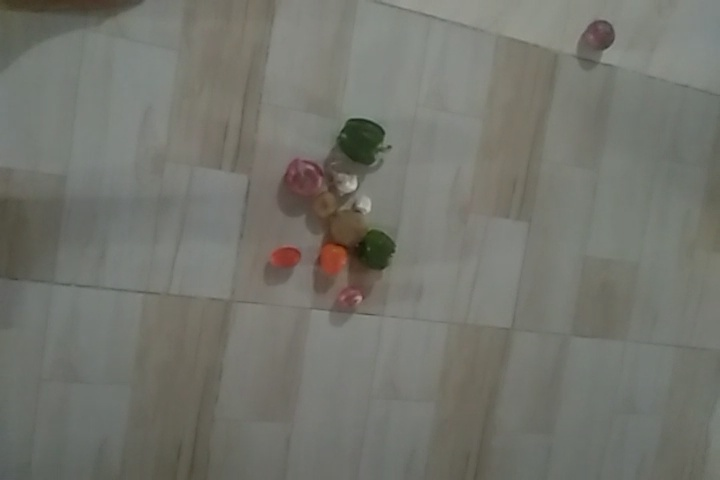capsicum: (337, 119, 395, 170), (360, 233, 390, 271)
garlic: (331, 167, 358, 194), (354, 194, 374, 217)
onion: (582, 16, 614, 54), (286, 164, 317, 196), (339, 287, 361, 310)
potato: (326, 209, 369, 243), (314, 195, 336, 220)
tomato: (268, 248, 305, 273), (317, 244, 346, 274)
